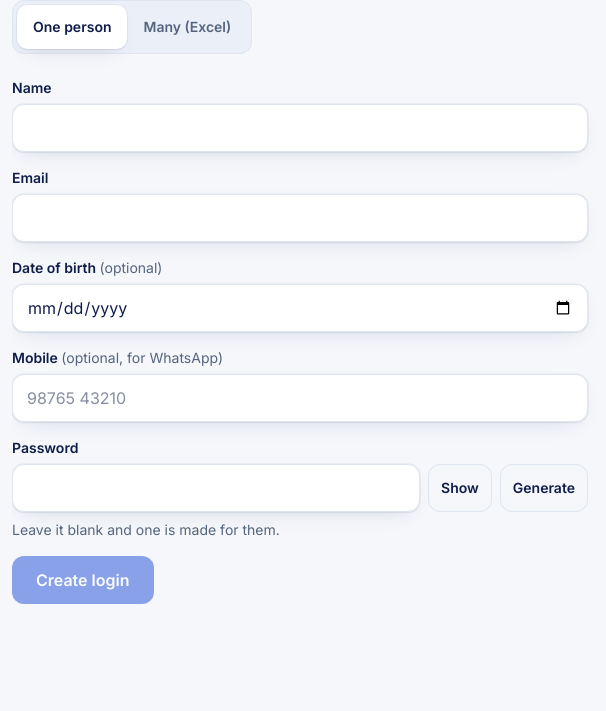
Test: AddPeopleForm — one person › asks about guardian consent only for an under-18
Type "2000-01-01" into the date field labelled "Date of birth (optional)". click: point(300, 308)
box: [12,284,588,332]
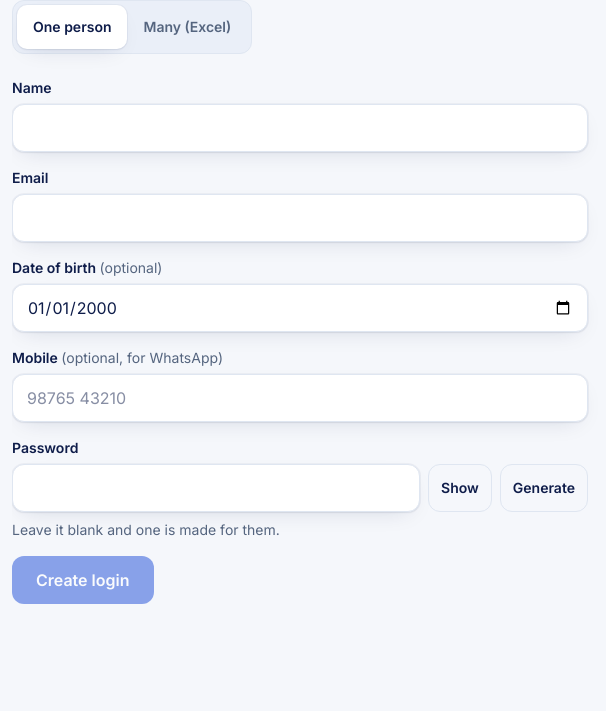
expect the field labelled "guardian consent" is not shown: met
Type "2013-01-01" into the date field labelled "Date of birth (optional)". click: point(300, 308)
box: [12,284,588,332]
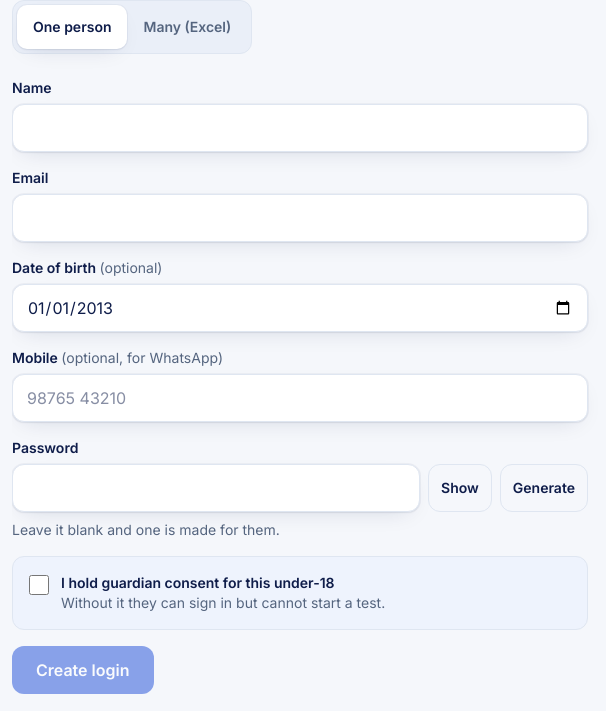
expect the checkbox labelled "guardian consent" is shown: met, box [29,575,49,595]
